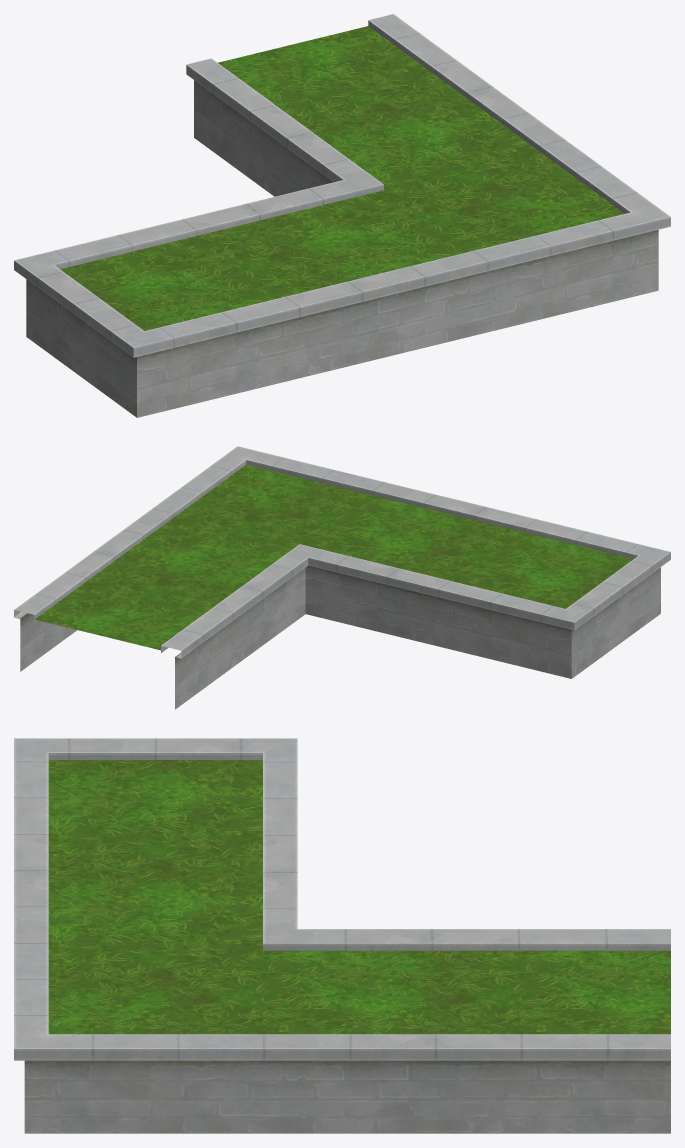
Rendered from flowerBed_high_04.fbx.
3 views of the same model, one above another, from view 1: azimuth 30°, elevation 25°; view 2: azimuth 150°, elevation 25°; view 3: azimuth 270°, elevation 25° (orthographic). The views are drawn at different scales.
Parts seen in each view (by area): view 1: flowerBed_high_04; view 2: flowerBed_high_04; view 3: flowerBed_high_04.
Part boxes in pixels (x1,y1,x2,y2): flowerBed_high_04: (14,14,670,417); flowerBed_high_04: (14,446,670,709); flowerBed_high_04: (14,738,670,1133).
Bounding box in the file's own units: 428 × 57.19 × 383.
